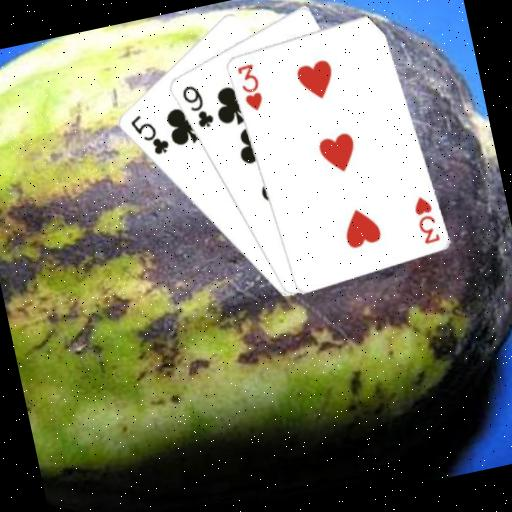3H: (408, 190, 442, 246), (233, 59, 265, 114)
5C: (124, 107, 171, 161)
9C: (176, 78, 216, 133)
